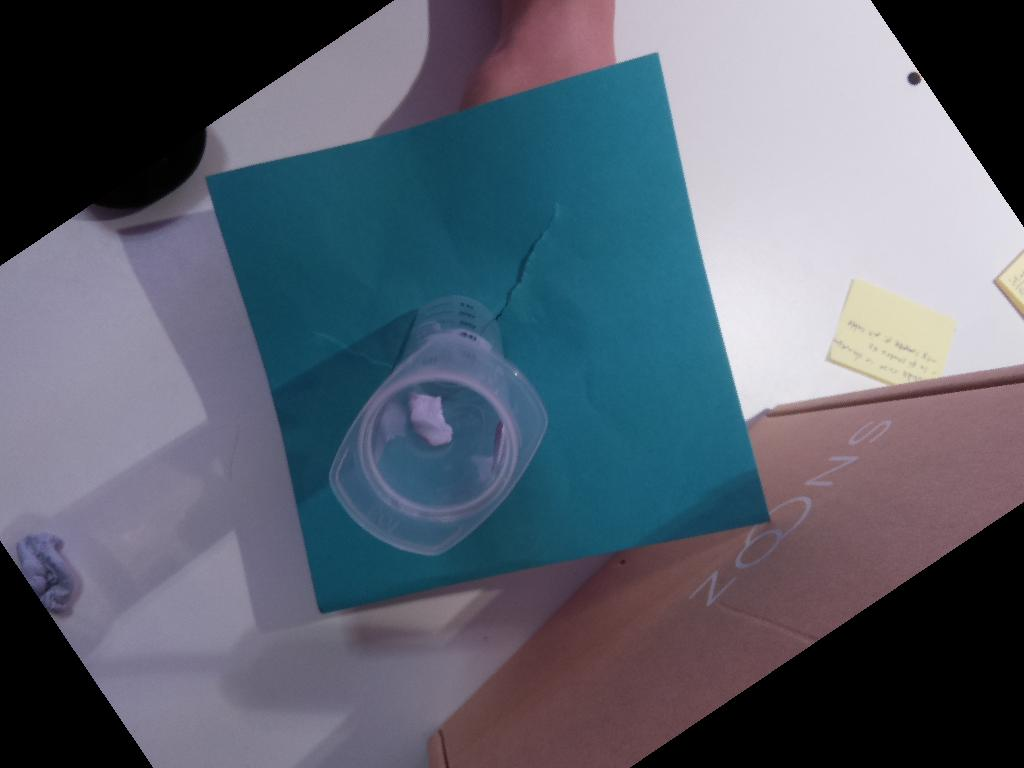dirty: (326, 336, 548, 556)
